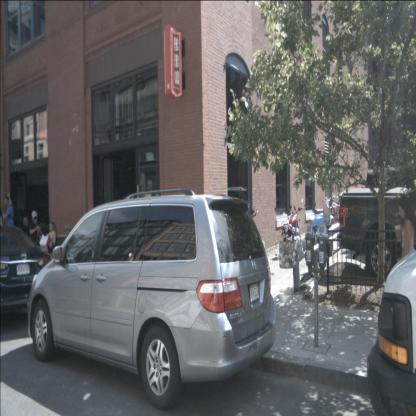human-pedestrian-adult: (394, 195, 416, 321), (28, 210, 43, 284), (2, 192, 16, 261), (38, 221, 56, 268)
vehicle-car: (26, 193, 277, 410), (0, 224, 52, 324)
vehicle-motorcycle: (281, 206, 303, 259)
vehicle-truck: (336, 183, 416, 281)
